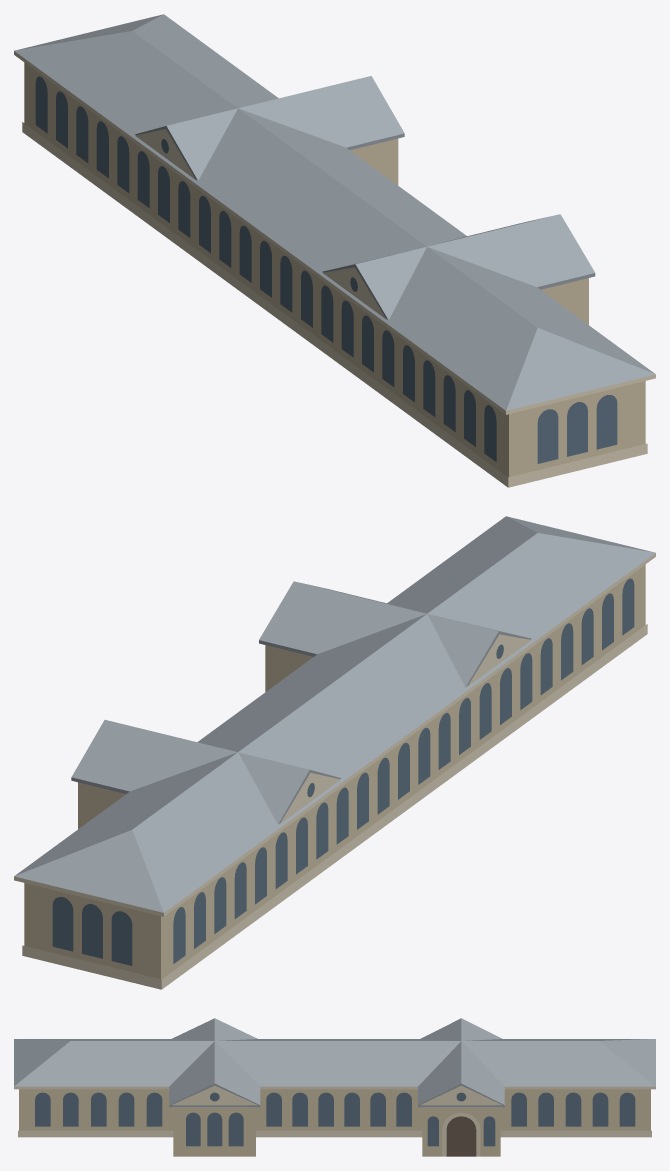
File: niagara-adams-transformer-house.glb
3 views of the same model, one above another, from view 1: azimuth 30°, elevation 25°; view 2: azimuth 150°, elevation 25°; view 3: azimuth 270°, elevation 25° (orthographic). The views are drawn at different scales.
Visible parts, largest first — view 1: Adams Power Plant Transformer House; view 2: Adams Power Plant Transformer House; view 3: Adams Power Plant Transformer House.
Boxes of the visible parts, bbox=[...] form: Adams Power Plant Transformer House: bbox=[14, 14, 655, 487]; Adams Power Plant Transformer House: bbox=[14, 516, 655, 989]; Adams Power Plant Transformer House: bbox=[14, 1018, 655, 1156].
Bounding box in the file's own units: 19.12 × 9.9 × 77.7.
